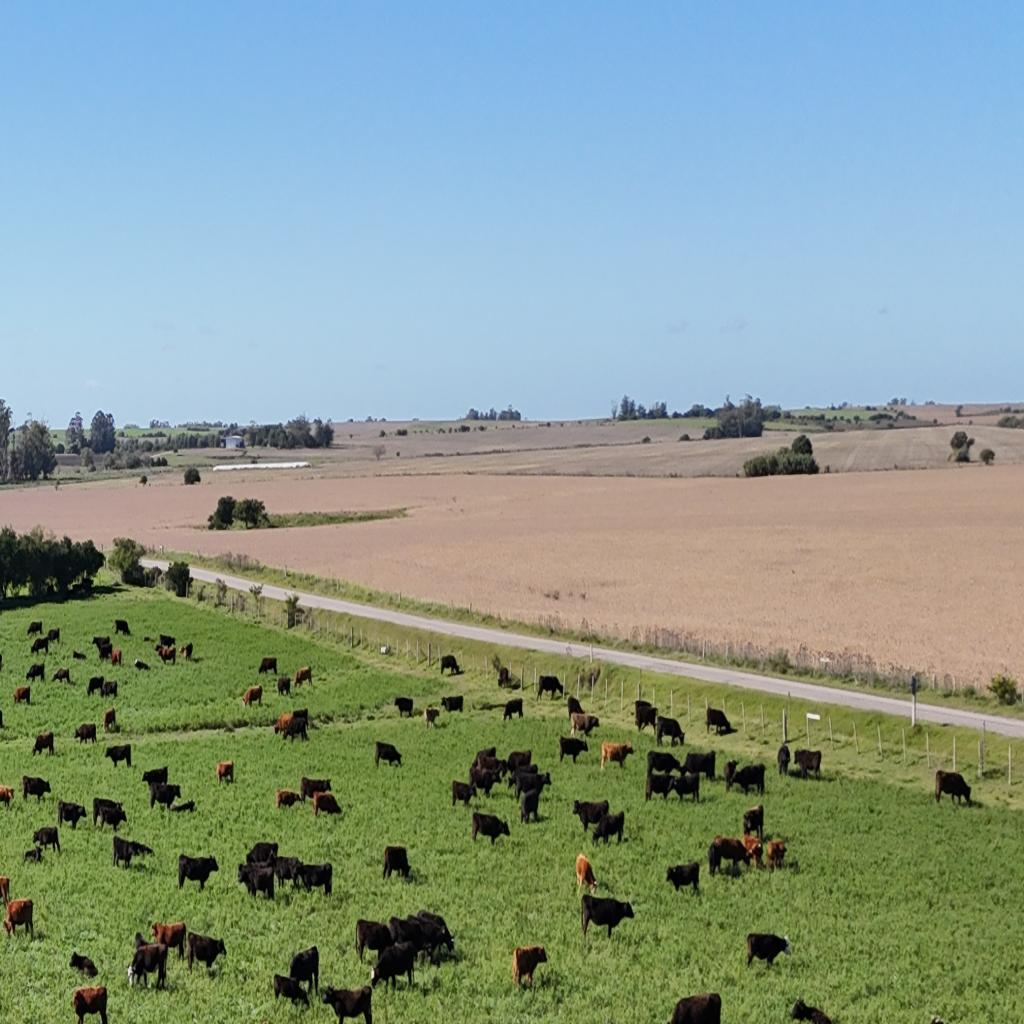cow: (926, 756, 982, 820), (578, 894, 635, 942), (370, 940, 418, 992), (389, 915, 433, 966), (322, 983, 372, 1024), (129, 940, 169, 991), (416, 912, 456, 962), (186, 930, 226, 974), (746, 931, 792, 969), (669, 992, 723, 1024), (356, 918, 392, 966), (711, 834, 752, 876), (150, 920, 188, 964), (511, 944, 547, 990), (288, 944, 320, 994), (177, 853, 219, 891), (294, 860, 332, 898), (237, 862, 275, 900), (112, 836, 154, 870), (2, 896, 34, 940), (72, 985, 108, 1024), (572, 799, 608, 837), (273, 974, 311, 1010), (472, 811, 510, 846), (729, 764, 766, 798), (787, 998, 835, 1024), (666, 861, 699, 896), (593, 811, 625, 847), (684, 750, 717, 784), (273, 855, 303, 892), (513, 770, 545, 804), (670, 771, 701, 805), (519, 786, 547, 823), (600, 740, 633, 771), (382, 845, 410, 881), (655, 715, 685, 748), (575, 852, 597, 897), (647, 751, 678, 782), (57, 799, 87, 831), (33, 824, 63, 856), (472, 766, 502, 798), (793, 748, 821, 782), (94, 804, 126, 832), (151, 783, 181, 812), (646, 772, 674, 803), (69, 951, 98, 980), (570, 711, 599, 740), (22, 775, 52, 803), (302, 776, 332, 804), (742, 803, 764, 841), (246, 841, 278, 867), (559, 736, 588, 764), (705, 706, 732, 736), (374, 741, 402, 769), (313, 790, 343, 816), (634, 703, 658, 735), (766, 838, 787, 873), (451, 780, 475, 809), (537, 674, 563, 700), (281, 718, 307, 744), (506, 749, 532, 775), (105, 743, 132, 768), (473, 746, 497, 771), (142, 766, 168, 789), (32, 731, 54, 757), (502, 698, 524, 722), (74, 723, 98, 745), (275, 790, 301, 810), (497, 667, 519, 690), (273, 712, 294, 736), (707, 840, 721, 876), (777, 744, 791, 779), (242, 685, 262, 709), (216, 760, 234, 786), (393, 696, 414, 718), (724, 758, 738, 791), (441, 694, 463, 714), (156, 644, 176, 666), (26, 662, 46, 684), (440, 655, 460, 676), (92, 635, 111, 657), (258, 656, 278, 676), (30, 636, 50, 656), (294, 666, 312, 688), (168, 799, 196, 813), (0, 876, 12, 908), (13, 685, 31, 706), (100, 679, 118, 700), (567, 695, 584, 717), (51, 667, 71, 685), (87, 676, 105, 696), (289, 708, 309, 726), (424, 707, 440, 729), (103, 708, 117, 732), (157, 634, 176, 651), (0, 786, 14, 809), (23, 846, 41, 863), (113, 619, 131, 636), (277, 676, 291, 697), (132, 930, 147, 949), (179, 642, 193, 662), (109, 648, 122, 668), (27, 620, 43, 636), (788, 763, 804, 779), (134, 658, 150, 672), (48, 628, 60, 645), (72, 649, 87, 660), (930, 1014, 946, 1024), (144, 636, 154, 643)
